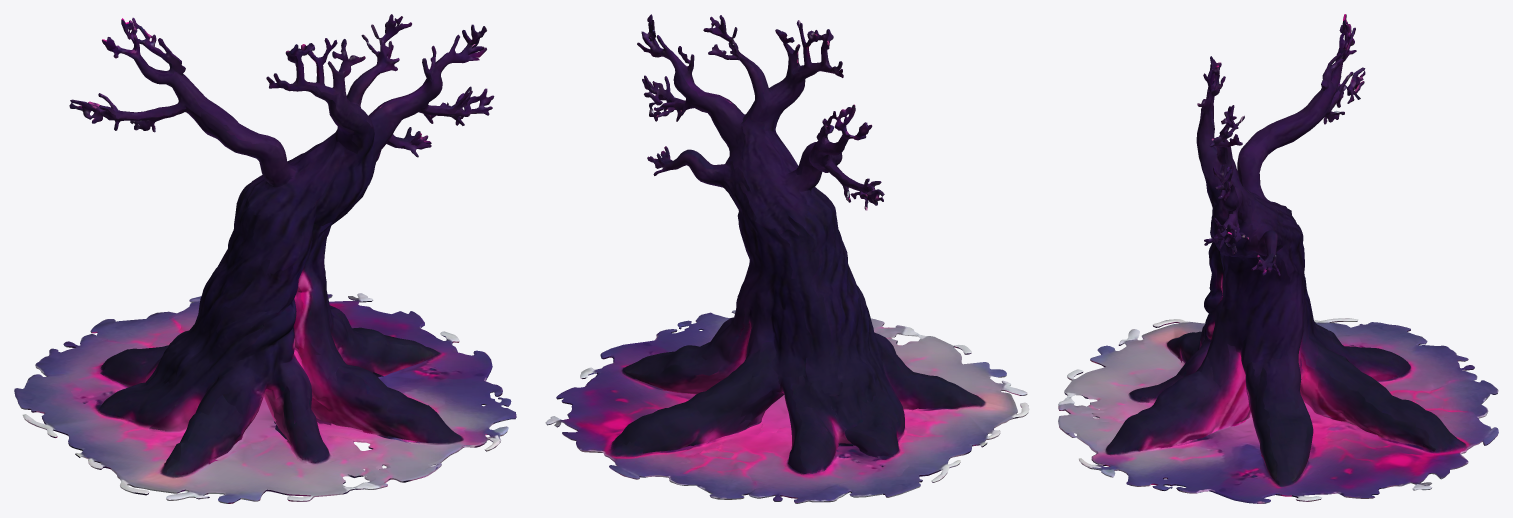
File: sea-root-sw-generated-2026-05-17T19-49-55-517Z.medium.glb
3 renders of one model, left to right at view 1: azimuth 30°, elevation 25°; view 2: azimuth 150°, elevation 25°; view 3: azimuth 270°, elevation 25°, orthographic. The views are drawn at different scales.
Visible parts, largest first — view 1: temp_mesh.ply; view 2: temp_mesh.ply; view 3: temp_mesh.ply.
Boxes of the visible parts, x1,y1,x2,y2 form: temp_mesh.ply: (14,14,516,503); temp_mesh.ply: (545,14,1029,503); temp_mesh.ply: (1058,14,1498,503).
Size of the model in its own units: 1.95 by 1.74 by 1.97.
1 material, 1 textured.
